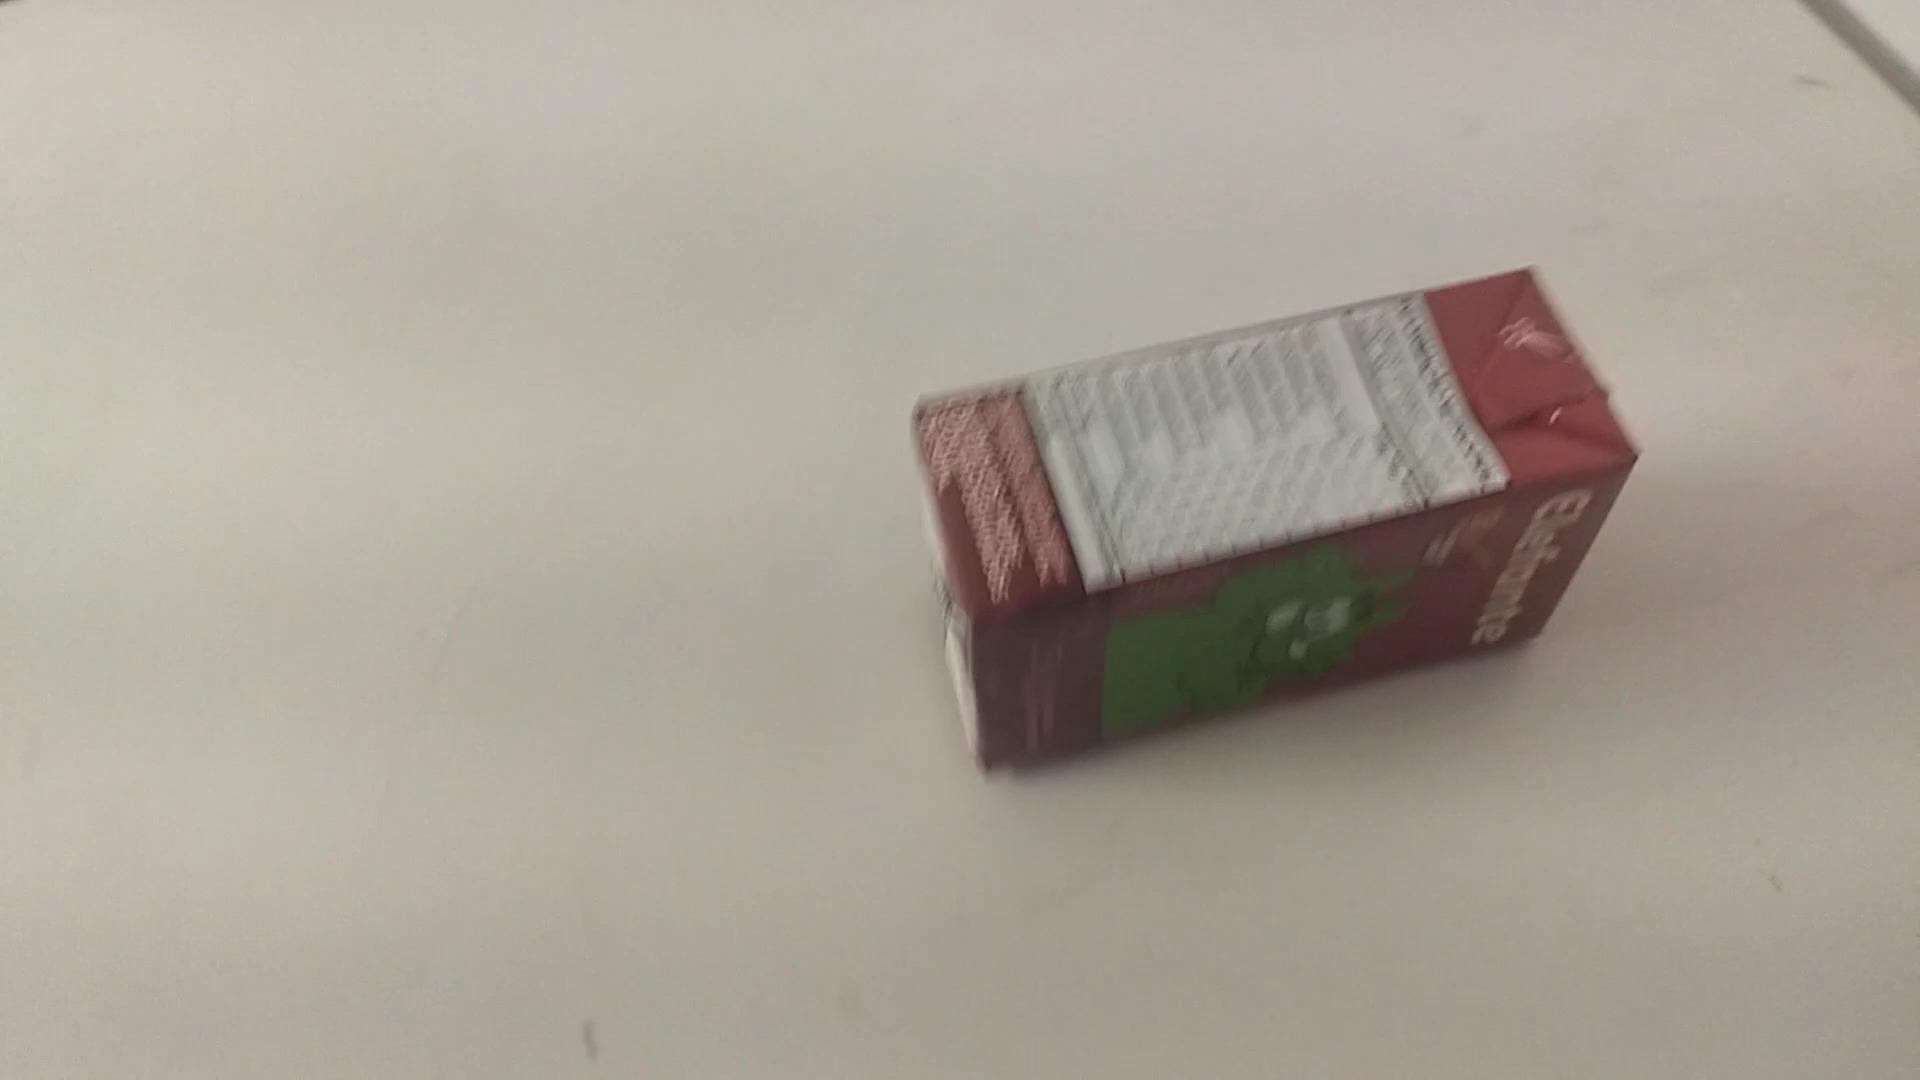tomate: (918, 266, 1642, 778)
